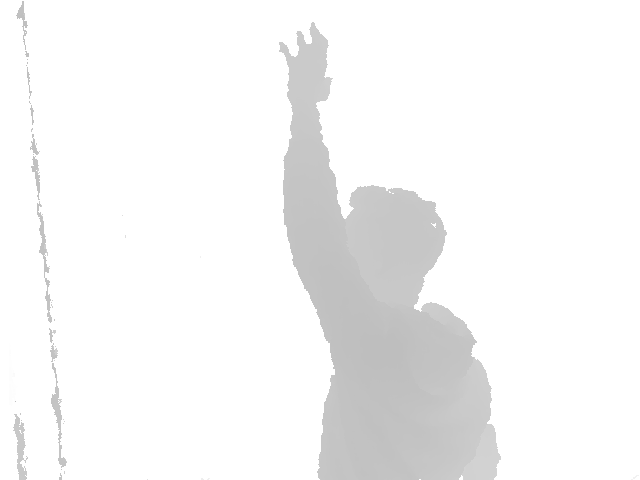hand: (277, 23, 334, 111)
head: (338, 185, 446, 305)
person: (277, 23, 501, 480)
